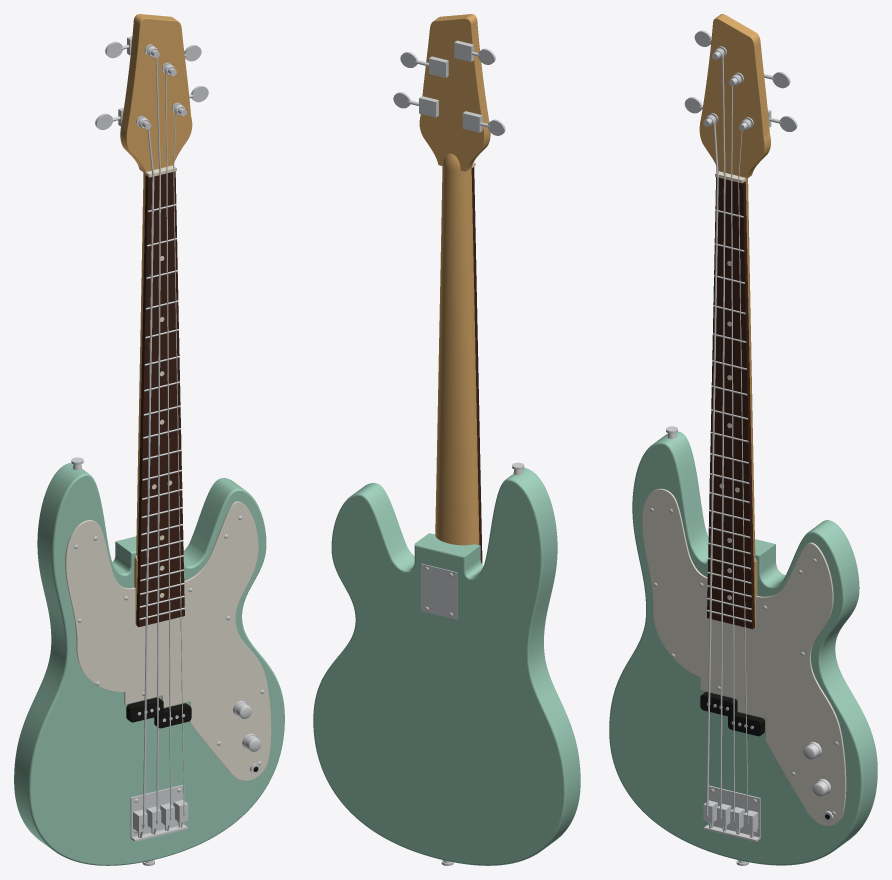
File: bass-guitar-configurable.glb
3 views of the same model, side by side, from view 1: azimuth 30°, elevation 25°; view 2: azimuth 150°, elevation 25°; view 3: azimuth 330°, elevation 25° (orthographic).
Parts seen in each view (by area): view 1: body, pickguard, fretboard, headstock, string_E_seg2, string_A_seg2, string_D_seg2, bridge_plate, neck_back, string_G_seg2, pickup_bass_half_cover, pickup_treble_half_cover; view 2: body, neck_back, headstock, neck_plate, fretboard; view 3: body, pickguard, fretboard, headstock, string_E_seg2, string_A_seg2, string_D_seg2, bridge_plate, neck_back, string_G_seg2, pickup_treble_half_cover, pickup_bass_half_cover.
Part boxes in pixels (left/top/right/bottom): body: left=14, top=463, right=284, bottom=865; pickguard: left=65, top=501, right=271, bottom=780; fretboard: left=136, top=171, right=184, bottom=626; headstock: left=120, top=14, right=192, bottom=173; string_E_seg2: left=143, top=176, right=154, bottom=823; string_A_seg2: left=156, top=174, right=160, bottom=820; string_D_seg2: left=166, top=172, right=171, bottom=816; bridge_plate: left=130, top=785, right=184, bottom=837; neck_back: left=136, top=172, right=145, bottom=558; string_G_seg2: left=173, top=170, right=184, bottom=813; pickup_bass_half_cover: left=126, top=697, right=163, bottom=722; pickup_treble_half_cover: left=154, top=703, right=191, bottom=728; body: left=313, top=468, right=580, bottom=865; neck_back: left=435, top=166, right=479, bottom=545; headstock: left=419, top=14, right=490, bottom=171; neck_plate: left=421, top=563, right=457, bottom=619; fretboard: left=471, top=167, right=482, bottom=563; body: left=609, top=431, right=877, bottom=865; pickguard: left=642, top=488, right=846, bottom=826; fretboard: left=707, top=177, right=754, bottom=629; headstock: left=699, top=14, right=770, bottom=179; string_E_seg2: left=706, top=176, right=718, bottom=814; string_A_seg2: left=720, top=178, right=725, bottom=817; string_D_seg2: left=731, top=180, right=734, bottom=820; bridge_plate: left=707, top=785, right=760, bottom=837; neck_back: left=745, top=178, right=755, bottom=560; string_G_seg2: left=738, top=181, right=748, bottom=823; pickup_treble_half_cover: left=728, top=712, right=764, bottom=736; pickup_bass_half_cover: left=700, top=692, right=737, bottom=716.
Size of the model in its own units: 0.359 by 1.15 by 0.0666.
